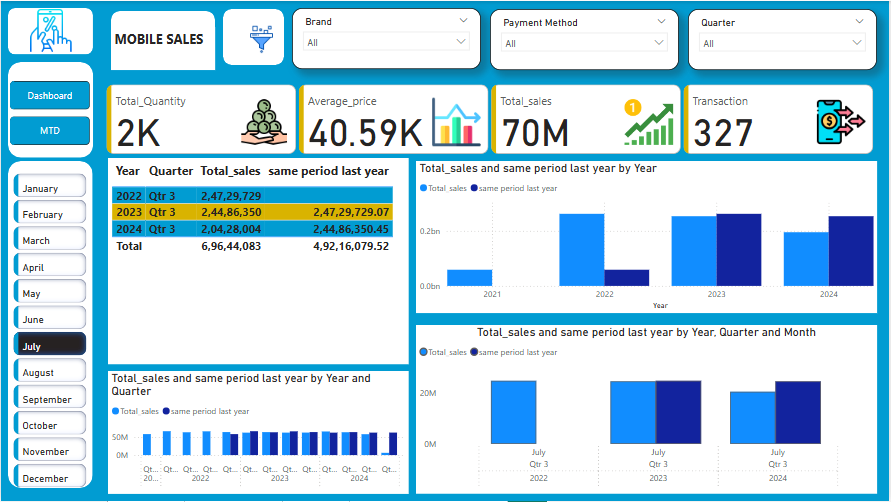

What the dashboard file says about the page in this screenshot:
{"tool":"powerbi","page":{"name":"Same period last year","canvas":[1280,720],"ordinal":3},"visuals":[{"type":"shape","box":[158.4,14.4,149.8,85],"z":0},{"type":"shape","box":[10.1,10.1,122.6,67.2],"z":1000},{"type":"shape","box":[10.1,87.3,122.6,137.7],"z":2000},{"type":"cardVisual","fields":{"Data":["sales_data.Total_Quantity","sales_data.Average_price","sales_data.Total_sales","sales_data.Transaction"]},"box":[146.9,115.2,1114.6,110.9],"z":3000},{"type":"slicer","fields":{"Values":["sales_data.Brand"]},"box":[419,10.1,272.2,87.8],"z":4000},{"type":"slicer","fields":{"Values":["sales_data.Payment Method"]},"box":[704.2,11.5,272.2,87.8],"z":5000},{"type":"slicer","fields":{"Values":["calender.Column1.Variation.Date Hierarchy.Quarter"]},"box":[989.3,11.5,272.2,87.8],"z":6000},{"type":"shape","box":[319.7,11.5,87.8,80.6],"z":7000},{"type":"image","box":[331.2,30.2,87.8,50.4],"z":8000},{"type":"textbox","box":[158.4,37.4,149.8,61.9],"z":9000},{"type":"image","box":[28.8,4.3,85,76.3],"z":10000},{"type":"shape","box":[10.1,230.4,122.4,470.9],"z":11000},{"type":"advancedSlicerVisual","fields":{"Values":["calender.Column1.Variation.Date Hierarchy.Month"]},"box":[13.4,243.6,115.9,467],"z":12000},{"type":"tableEx","fields":{"Values":["calender.Column1.Variation.Date Hierarchy.Year","calender.Column1.Variation.Date Hierarchy.Quarter","sales_data.Total_sales","sales_data.same period last year"]},"box":[154.1,226.1,433.4,296.6],"z":13000},{"type":"clusteredColumnChart","fields":{"Category":["calender.Column1.Variation.Date Hierarchy.Year","calender.Column1.Variation.Date Hierarchy.Quarter"],"Y":["sales_data.Total_sales","sales_data.same period last year"]},"box":[597.6,230.4,663.8,218.9],"z":14000},{"type":"clusteredColumnChart","fields":{"Y":["sales_data.Total_sales","sales_data.same period last year"],"Category":["calender.Column1.Variation.Date Hierarchy.Year","calender.Column1.Variation.Date Hierarchy.Quarter","calender.Column1.Variation.Date Hierarchy.Month","calender.Column1.Variation.Date Hierarchy.Day"]},"box":[154.1,532.8,433.4,177.1],"z":15000},{"type":"clusteredColumnChart","fields":{"Y":["sales_data.Total_sales","sales_data.same period last year"],"Category":["calender.Column1.Variation.Date Hierarchy.Year","calender.Column1.Variation.Date Hierarchy.Quarter","calender.Column1.Variation.Date Hierarchy.Month","calender.Column1.Variation.Date Hierarchy.Day"]},"box":[597.6,466.6,663.8,243.4],"z":16000},{"type":"pageNavigator","box":[13,115.2,115.2,93.6],"z":17000}]}

Visuals, with their boxes in screenshot pixels (x1, y1, x2, y2), scaled from the page's 1280x720 canvas onto the 891x502 screenshot:
shape: (left=110, top=10, right=215, bottom=69)
shape: (left=7, top=7, right=92, bottom=54)
shape: (left=7, top=61, right=92, bottom=157)
cardVisual - sales_data.Total_Quantity x sales_data.Average_price: (left=102, top=80, right=878, bottom=158)
slicer - sales_data.Brand: (left=292, top=7, right=481, bottom=68)
slicer - sales_data.Payment Method: (left=490, top=8, right=680, bottom=69)
slicer - calender.Column1.Variation.Date Hierarchy.Quarter: (left=689, top=8, right=878, bottom=69)
shape: (left=223, top=8, right=284, bottom=64)
image: (left=231, top=21, right=292, bottom=56)
textbox: (left=110, top=26, right=215, bottom=69)
image: (left=20, top=3, right=79, bottom=56)
shape: (left=7, top=161, right=92, bottom=489)
advancedSlicerVisual - calender.Column1.Variation.Date Hierarchy.Month: (left=9, top=170, right=90, bottom=495)
tableEx - calender.Column1.Variation.Date Hierarchy.Year x calender.Column1.Variation.Date Hierarchy.Quarter: (left=107, top=158, right=409, bottom=364)
clusteredColumnChart - calender.Column1.Variation.Date Hierarchy.Year x calender.Column1.Variation.Date Hierarchy.Quarter: (left=416, top=161, right=878, bottom=313)
clusteredColumnChart - sales_data.Total_sales x sales_data.same period last year: (left=107, top=371, right=409, bottom=495)
clusteredColumnChart - sales_data.Total_sales x sales_data.same period last year: (left=416, top=325, right=878, bottom=495)
pageNavigator: (left=9, top=80, right=89, bottom=146)
